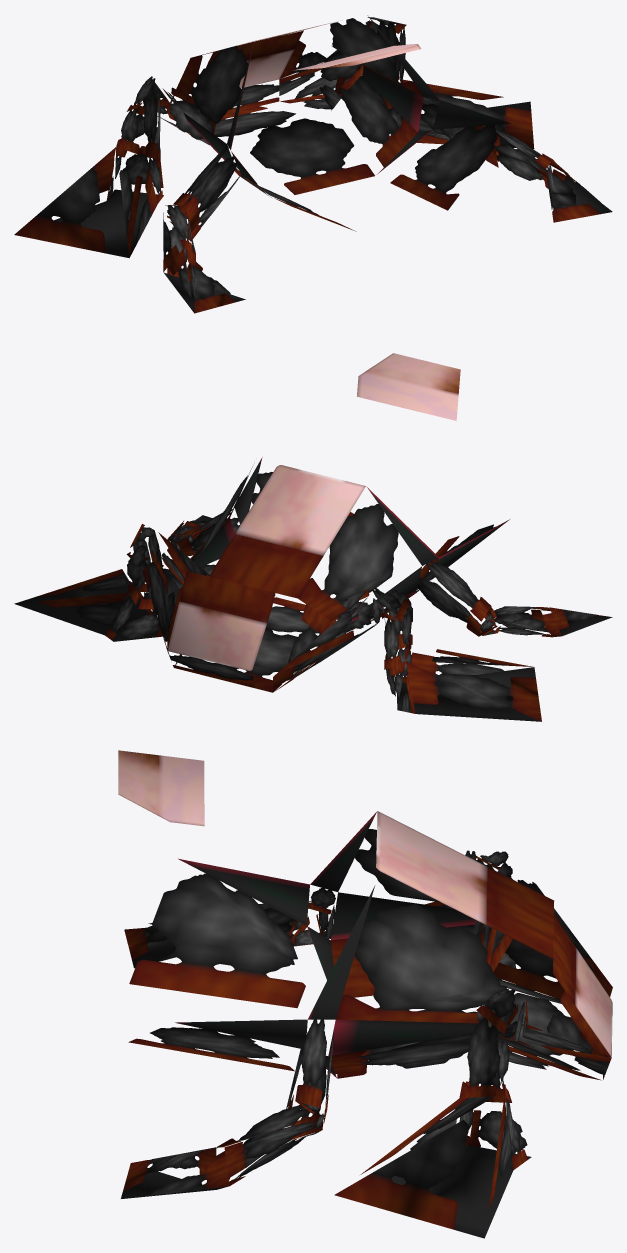
3 views of the same model, one above another, from view 1: azimuth 30°, elevation 25°; view 2: azimuth 150°, elevation 25°; view 3: azimuth 270°, elevation 25° (orthographic). The views are drawn at different scales.
Parts seen in each view (by area): view 1: T1L3M004_24; view 2: T1L3M004_24; view 3: T1L3M004_24.
Part boxes in pixels (x1,y1,x2,y2): T1L3M004_24: [14, 15, 612, 313]; T1L3M004_24: [14, 353, 612, 721]; T1L3M004_24: [118, 750, 612, 1238].
Bounding box in the file's own units: 1.26 × 0.4966 × 0.9313.
